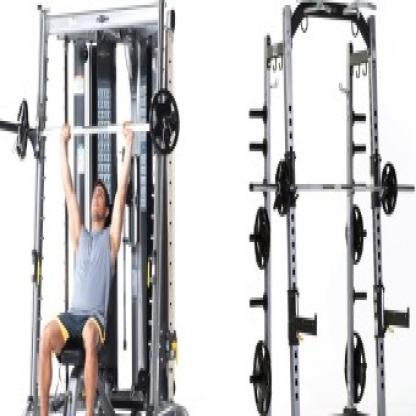smith machine: (248, 0, 416, 416)
